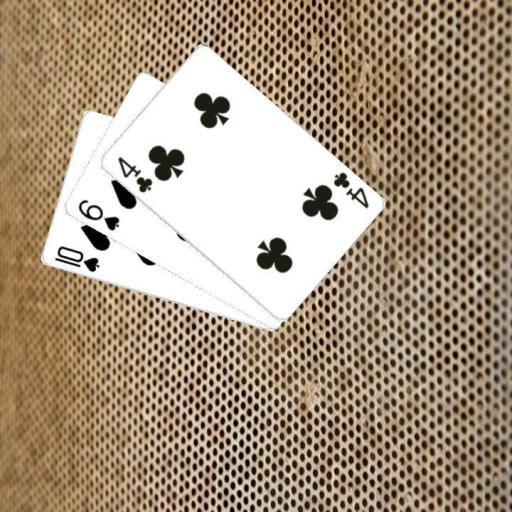card-corner: (74, 196, 121, 233), (329, 168, 370, 210), (50, 242, 101, 274), (114, 154, 154, 194)
